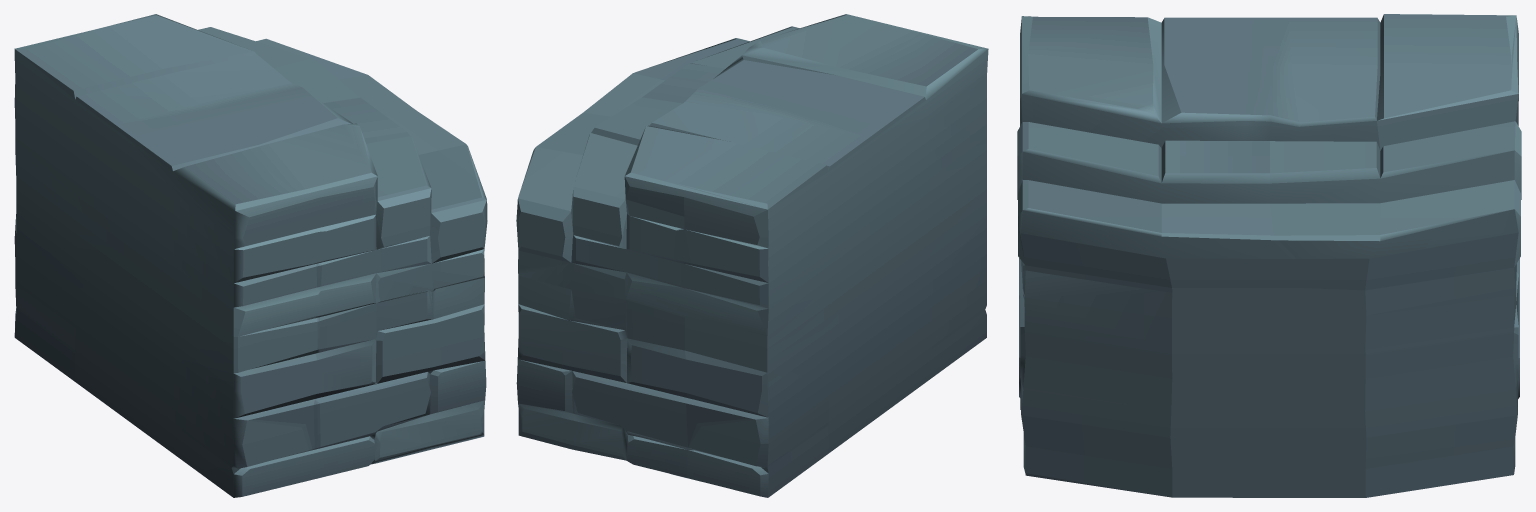
The model's file is Modular_Dungeon_Stairs_Landing.fbx.
The picture shows the model from 3 angles, left to right: view 1: azimuth 30°, elevation 25°; view 2: azimuth 150°, elevation 25°; view 3: azimuth 270°, elevation 25°; orthographic projection. The views are drawn at different scales.
Visible parts, largest first — view 1: Stairs_Landing; view 2: Stairs_Landing; view 3: Stairs_Landing.
Boxes of the visible parts, x1=… form: Stairs_Landing: x1=14, y1=14, x2=487, y2=497; Stairs_Landing: x1=516, y1=14, x2=988, y2=497; Stairs_Landing: x1=1017, y1=14, x2=1521, y2=497.
Size of the model in its own units: 5.43 by 5.12 by 7.17.
Materials: 1 (1 with a texture image).
